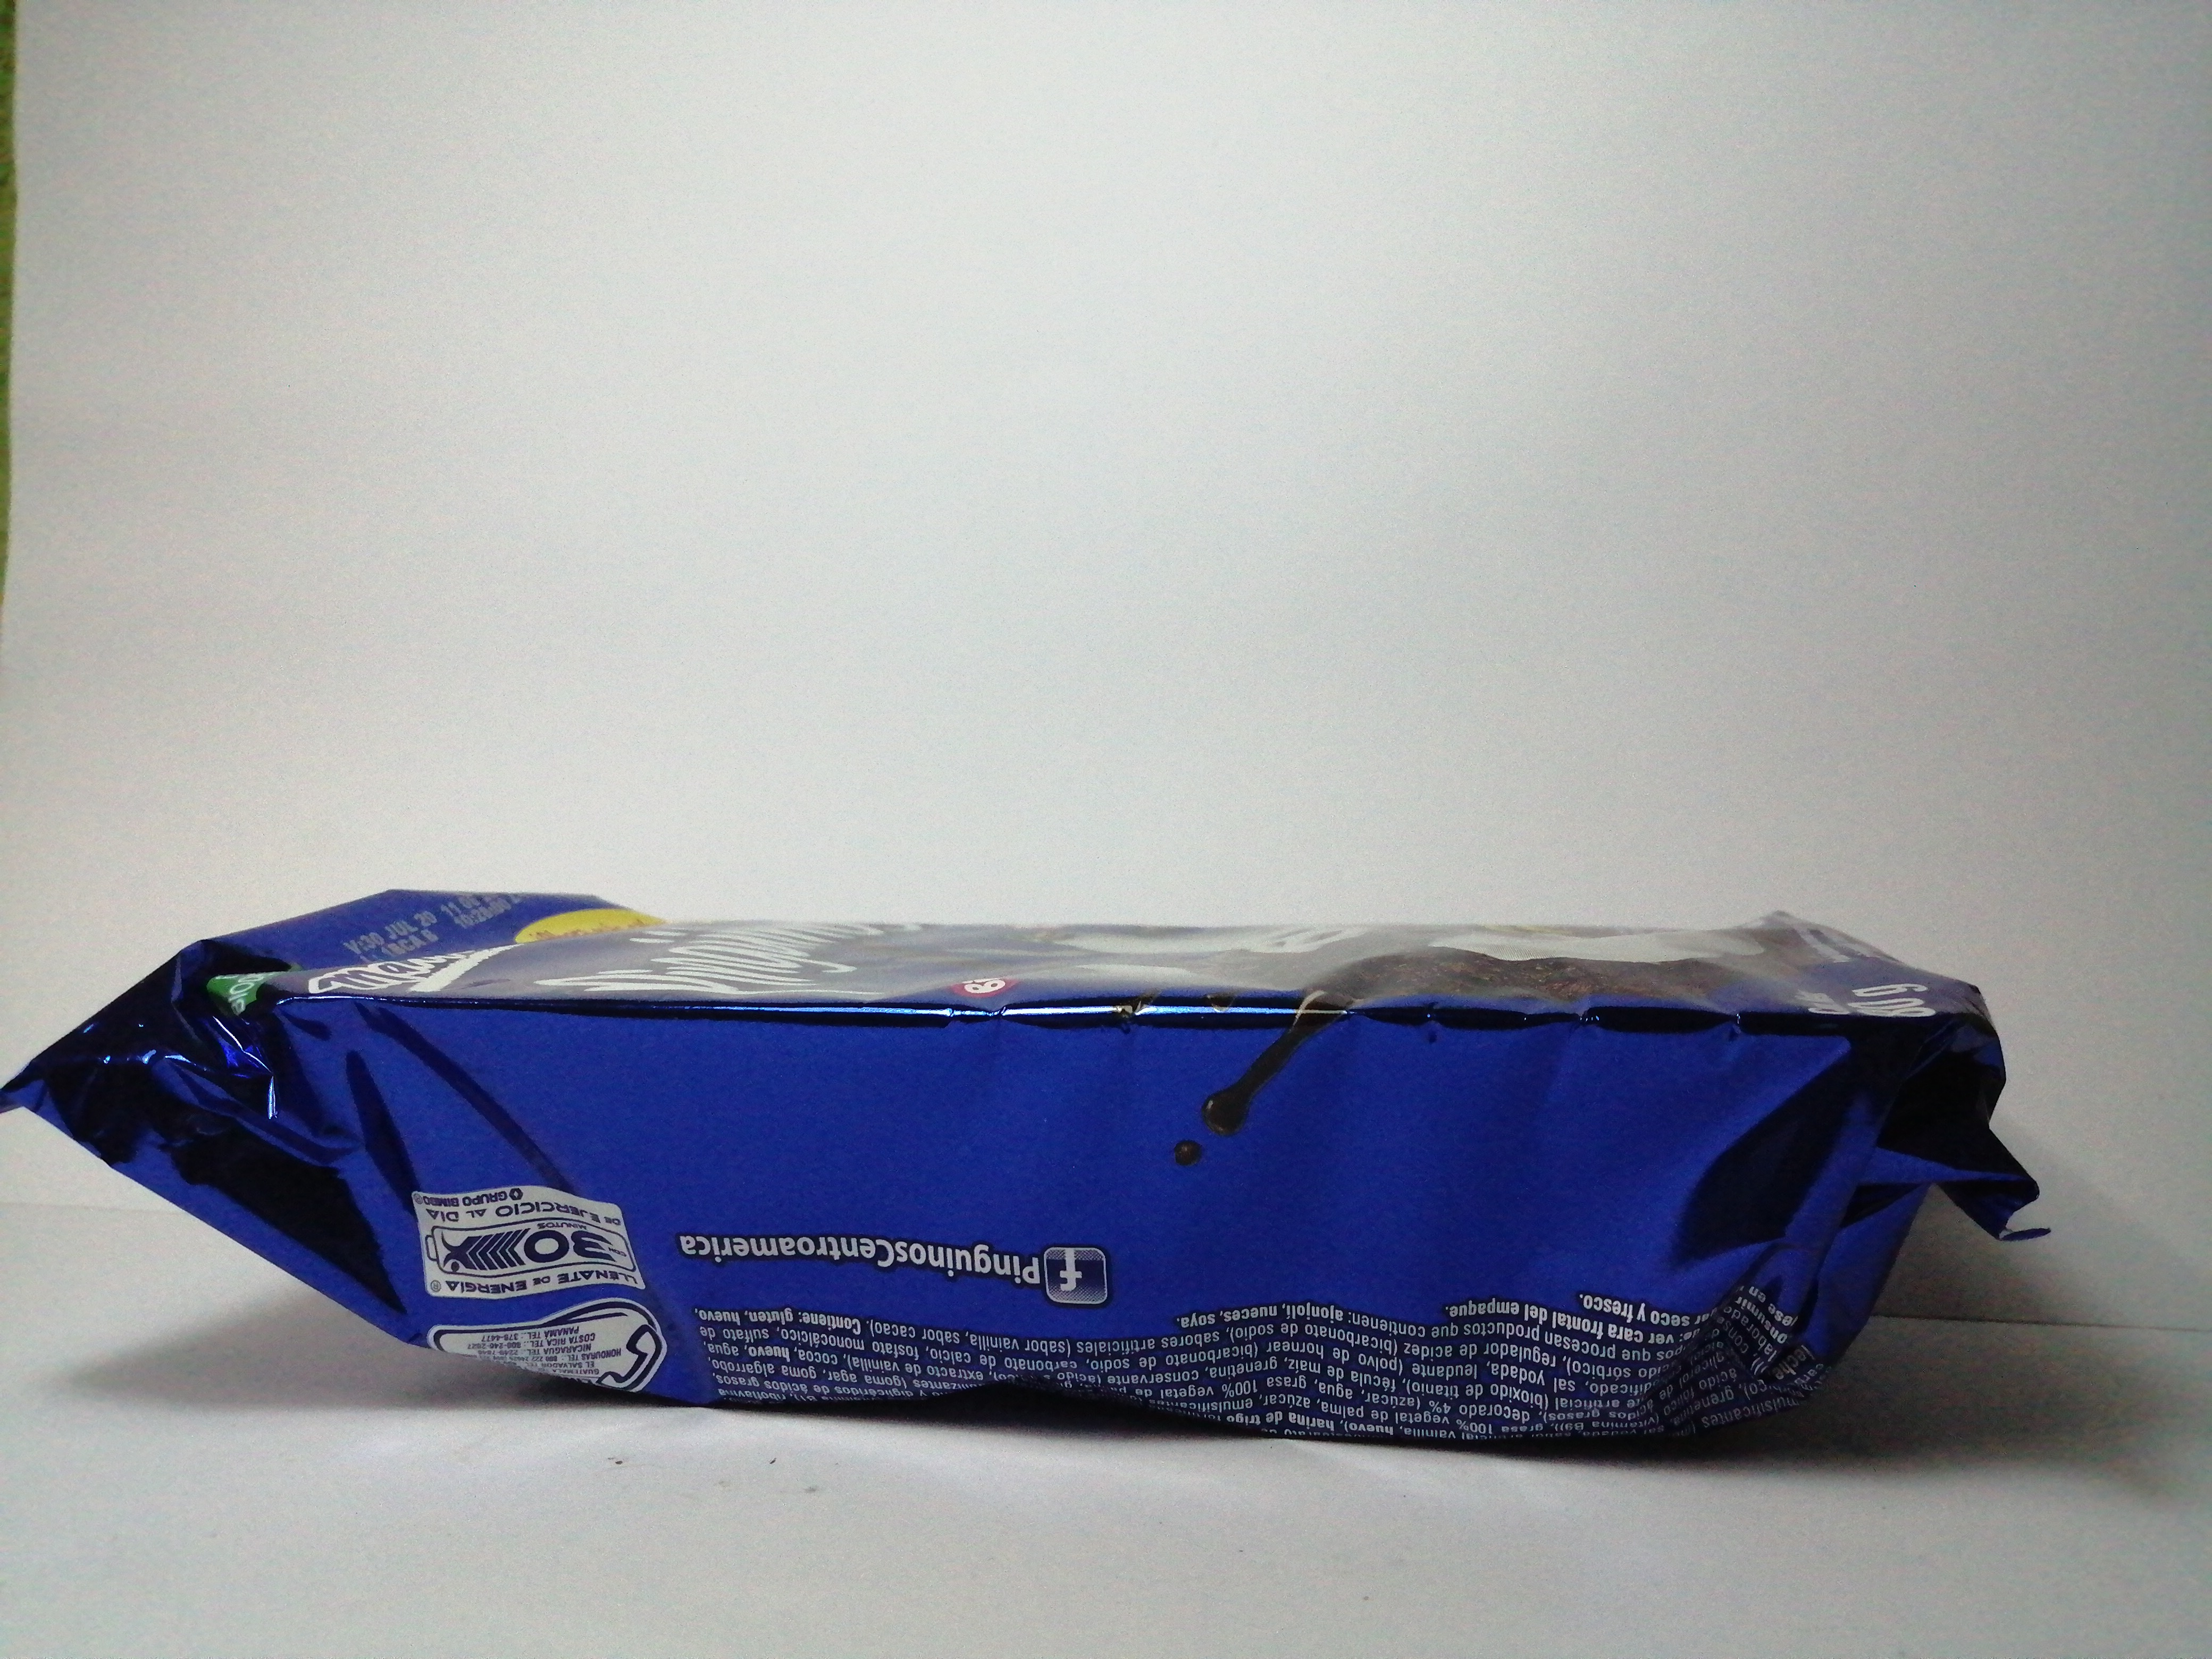pinguino: (16, 896, 2029, 1448)
